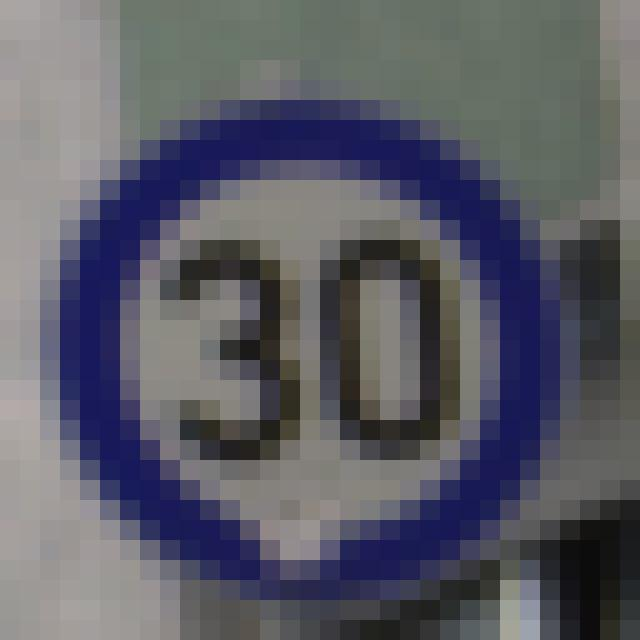SPEED LIMIT 30: (58, 117, 560, 571)
